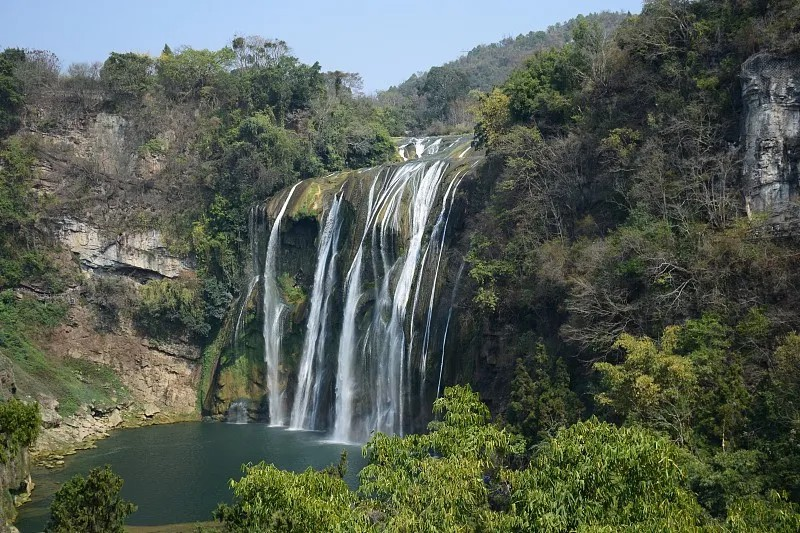Huangguoshu: (264, 134, 470, 443)
